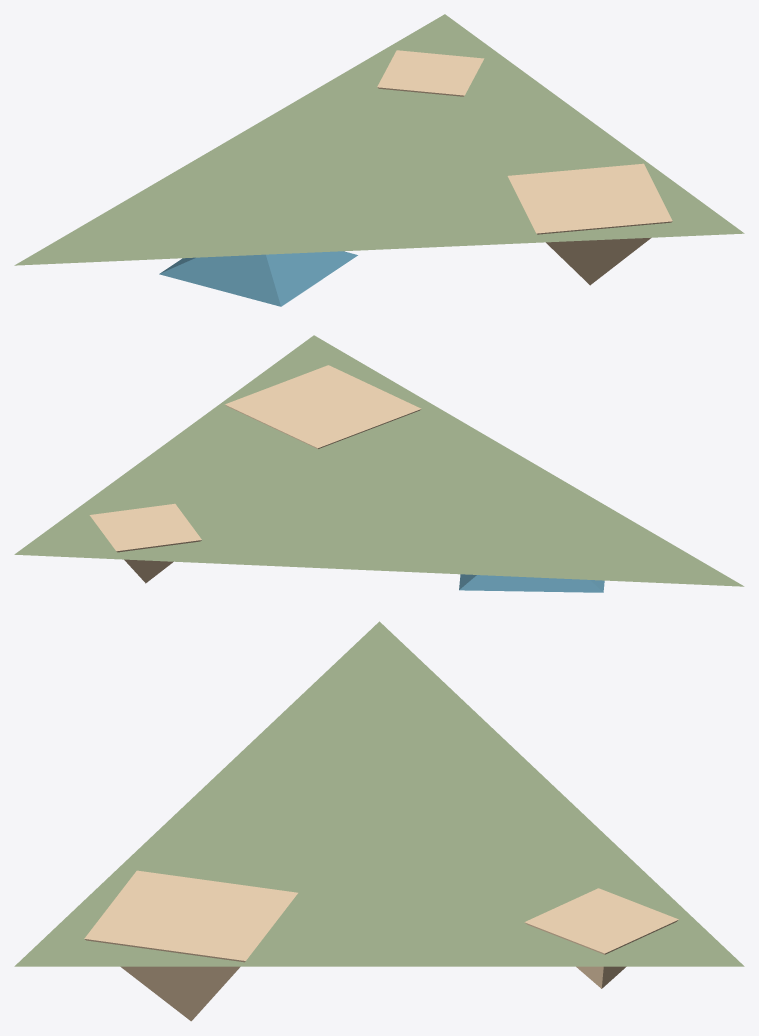
File: level_base.fbx
The picture shows the model from 3 angles, top to bottom: view 1: azimuth 30°, elevation 25°; view 2: azimuth 150°, elevation 25°; view 3: azimuth 270°, elevation 25°; orthographic projection. The views are drawn at different scales.
Visible parts, largest first — view 1: level_baseplate, hill, platform7, hill1; view 2: level_baseplate, hill, hill1, platform7; view 3: level_baseplate, hill, hill1.
Part boxes in pixels (box(x1,y1,x2,y2)): level_baseplate: box(14, 14, 744, 265); hill: box(507, 163, 672, 285); platform7: box(159, 251, 357, 306); hill1: box(377, 50, 484, 96); level_baseplate: box(14, 335, 744, 586); hill: box(225, 365, 421, 448); hill1: box(89, 503, 201, 583); platform7: box(459, 574, 604, 592); level_baseplate: box(14, 621, 744, 966); hill: box(84, 870, 297, 1021); hill1: box(524, 888, 678, 988).
Bounding box in the file's own units: 112 × 16.02 × 100.
